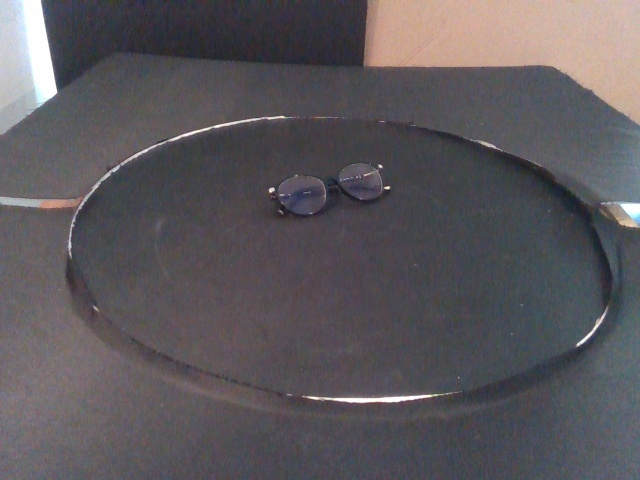glasses: (267, 161, 392, 219)
